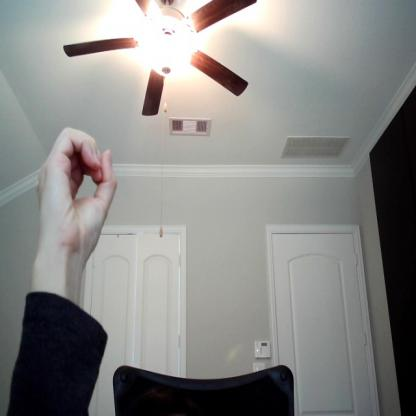zero: (37, 124, 119, 248)
